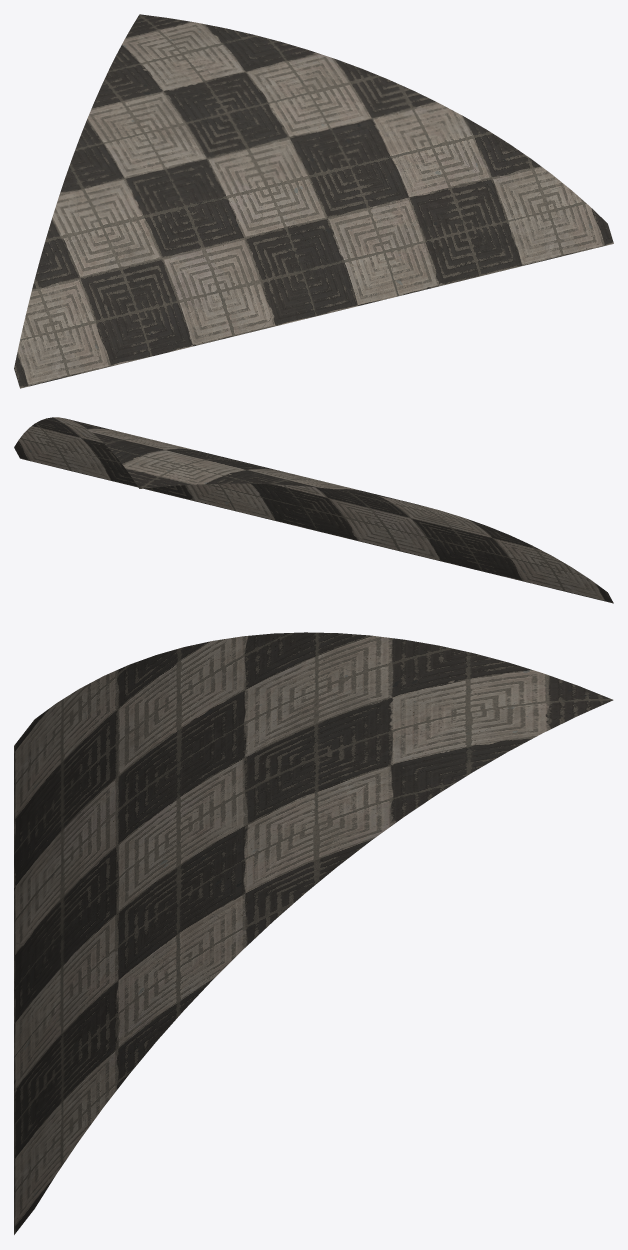
The model's file is FBX_Ceiling_Covered.fbx.
3 views of the same model, one above another, from view 1: azimuth 30°, elevation 25°; view 2: azimuth 150°, elevation 25°; view 3: azimuth 270°, elevation 25° (orthographic). The views are drawn at different scales.
Parts seen in each view (by area): view 1: Ceiling_Covered; view 2: Ceiling_Covered; view 3: Ceiling_Covered.
Boxes of the visible parts, left/top/right/bottom form: Ceiling_Covered: left=14, top=14, right=613, bottom=388; Ceiling_Covered: left=14, top=417, right=613, bottom=603; Ceiling_Covered: left=14, top=632, right=613, bottom=1234.
Bounding box in the file's own units: 962 × 266 × 498.
1 material, 1 textured.
